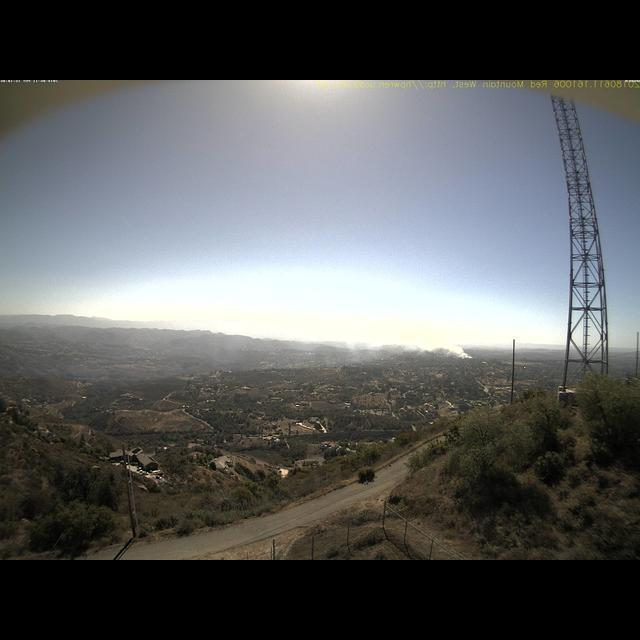Smoke: (280, 327, 472, 364)
